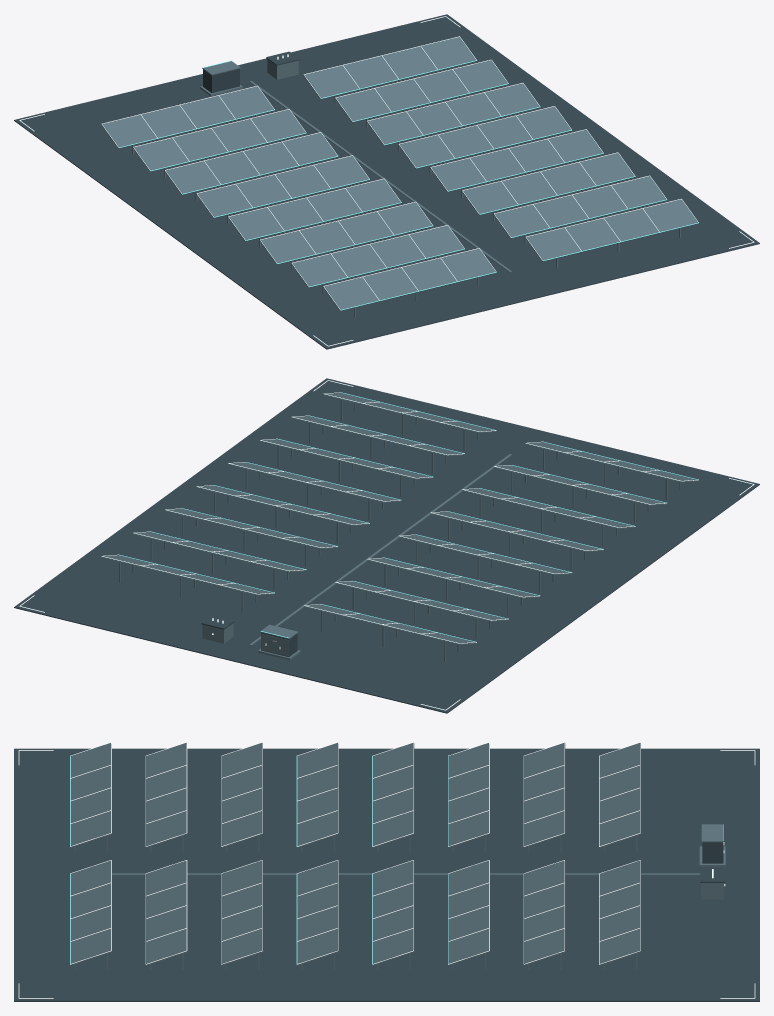
The model's file is solar_array.lod1.glb.
3 renders of one model, top to bottom at view 1: azimuth 30°, elevation 25°; view 2: azimuth 150°, elevation 25°; view 3: azimuth 270°, elevation 25°, orthographic. The views are drawn at different scales.
Visible parts, largest first — view 1: solar_array_graphite_light.001, solar_array_graphite.001, solar_array_white.001, solar_array_edge.001; view 2: solar_array_graphite.001, solar_array_graphite_light.001, solar_array_white.001, solar_array_edge.001; view 3: solar_array_graphite.001, solar_array_graphite_light.001, solar_array_white.001, solar_array_edge.001.
Boxes of the visible parts, bbox=[...] form: solar_array_graphite_light.001: bbox=[101, 37, 698, 316]; solar_array_graphite.001: bbox=[14, 14, 759, 349]; solar_array_white.001: bbox=[19, 16, 754, 346]; solar_array_edge.001: bbox=[119, 60, 698, 310]; solar_array_graphite.001: bbox=[14, 378, 759, 713]; solar_array_graphite_light.001: bbox=[101, 392, 698, 661]; solar_array_white.001: bbox=[19, 380, 754, 710]; solar_array_edge.001: bbox=[119, 392, 697, 641]; solar_array_graphite.001: bbox=[14, 748, 759, 1001]; solar_array_graphite_light.001: bbox=[70, 742, 725, 969]; solar_array_white.001: bbox=[18, 742, 755, 998]; solar_array_edge.001: bbox=[70, 755, 723, 964].
Size of the model in its own units: 120 by 6.5 by 150.
